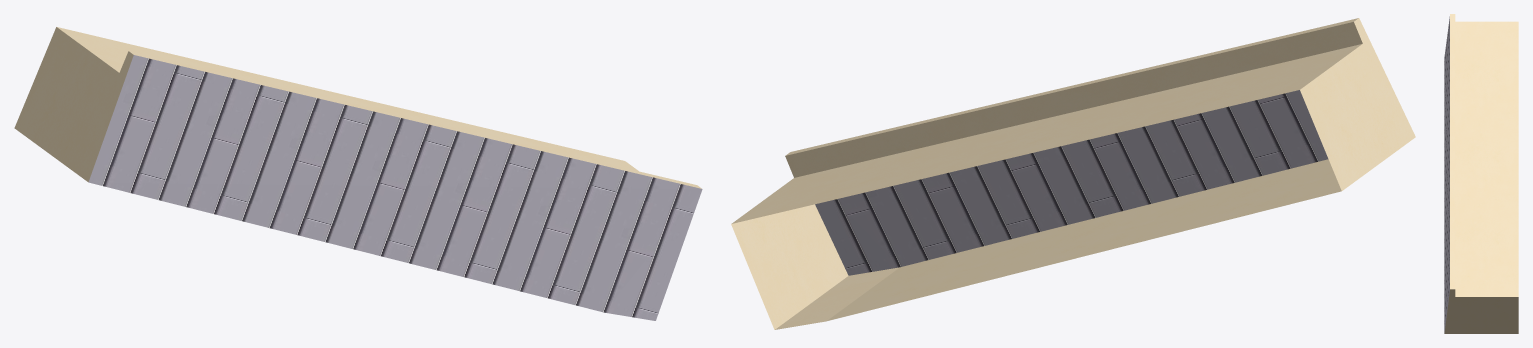
File: Pikk_51_2.obj
The picture shows the model from 3 angles, left to right: view 1: azimuth 30°, elevation 25°; view 2: azimuth 150°, elevation 25°; view 3: azimuth 270°, elevation 25°; orthographic projection. The views are drawn at different scales.
Parts seen in each view (by area): view 1: Pikk_51_2; view 2: Pikk_51_2; view 3: Pikk_51_2.
Boxes of the visible parts, x1,y1,x2,y2 form: Pikk_51_2: (14, 27, 702, 320); Pikk_51_2: (731, 18, 1415, 329); Pikk_51_2: (1444, 14, 1518, 333).
Size of the model in its own units: 16.78 by 10.04 by 3.47.
